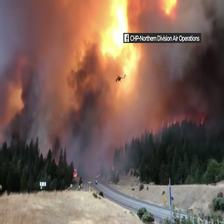fire: (74, 1, 164, 106)
